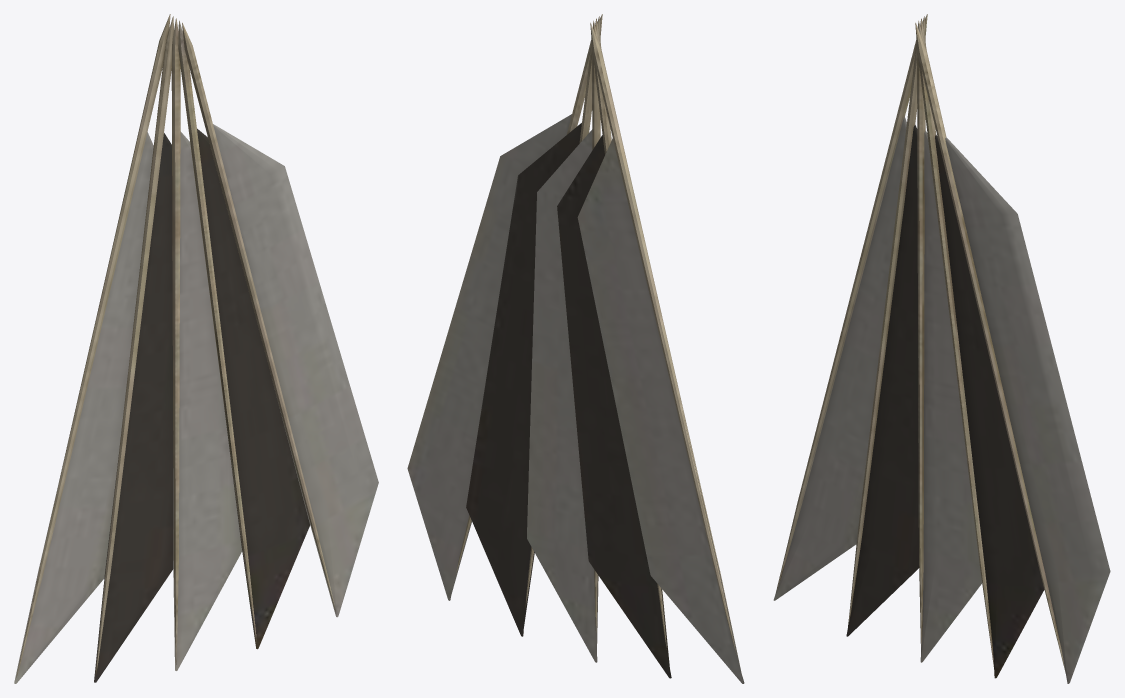
File: flight_feathers.glb
3 views of the same model, side by side, from view 1: azimuth 30°, elevation 25°; view 2: azimuth 150°, elevation 25°; view 3: azimuth 330°, elevation 25° (orthographic).
Visible parts, largest first — view 1: flight_feathers; view 2: flight_feathers; view 3: flight_feathers.
Part boxes in pixels (x1=…): flight_feathers: x1=14, y1=14, x2=378, y2=683; flight_feathers: x1=407, y1=14, x2=744, y2=683; flight_feathers: x1=773, y1=14, x2=1110, y2=683.
Bounding box in the file's own units: 0.1359 × 0.24 × 0.0112.
1 material, 1 textured.
